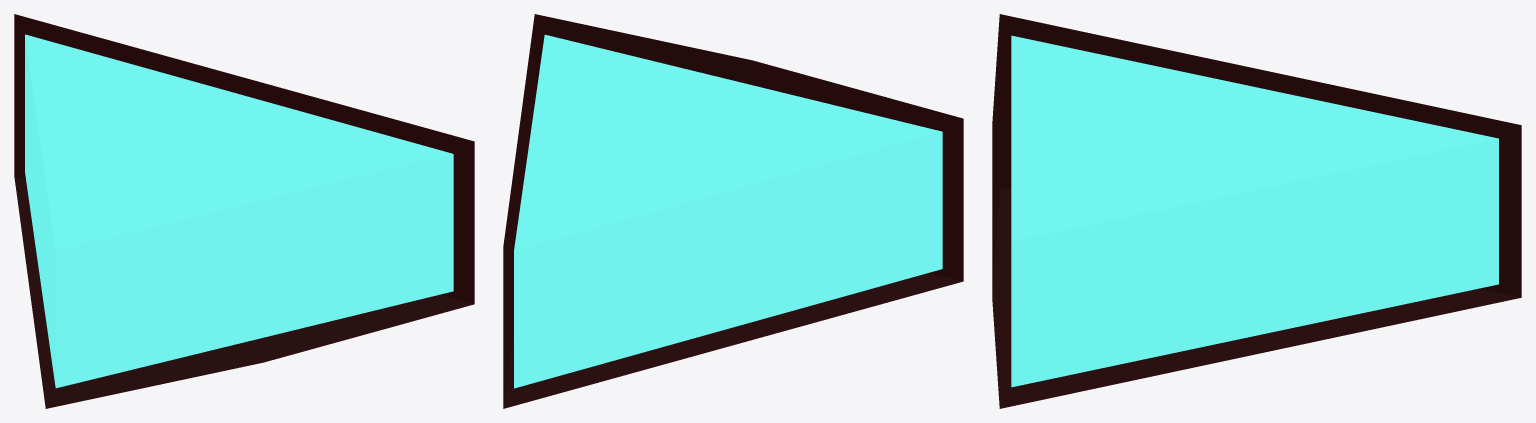
File: NOT.glb
The picture shows the model from 3 angles, left to right: view 1: azimuth 30°, elevation 25°; view 2: azimuth 150°, elevation 25°; view 3: azimuth 270°, elevation 25°; orthographic projection. The views are drawn at different scales.
Parts seen in each view (by area): view 1: Plane.001; view 2: Plane.001; view 3: Plane.001.
Part boxes in pixels (x1=…): Plane.001: x1=14, y1=14, x2=474, y2=408; Plane.001: x1=503, y1=14, x2=963, y2=408; Plane.001: x1=992, y1=14, x2=1521, y2=408.
Size of the model in its own units: 2.16 by 0.8152 by 2.17.
